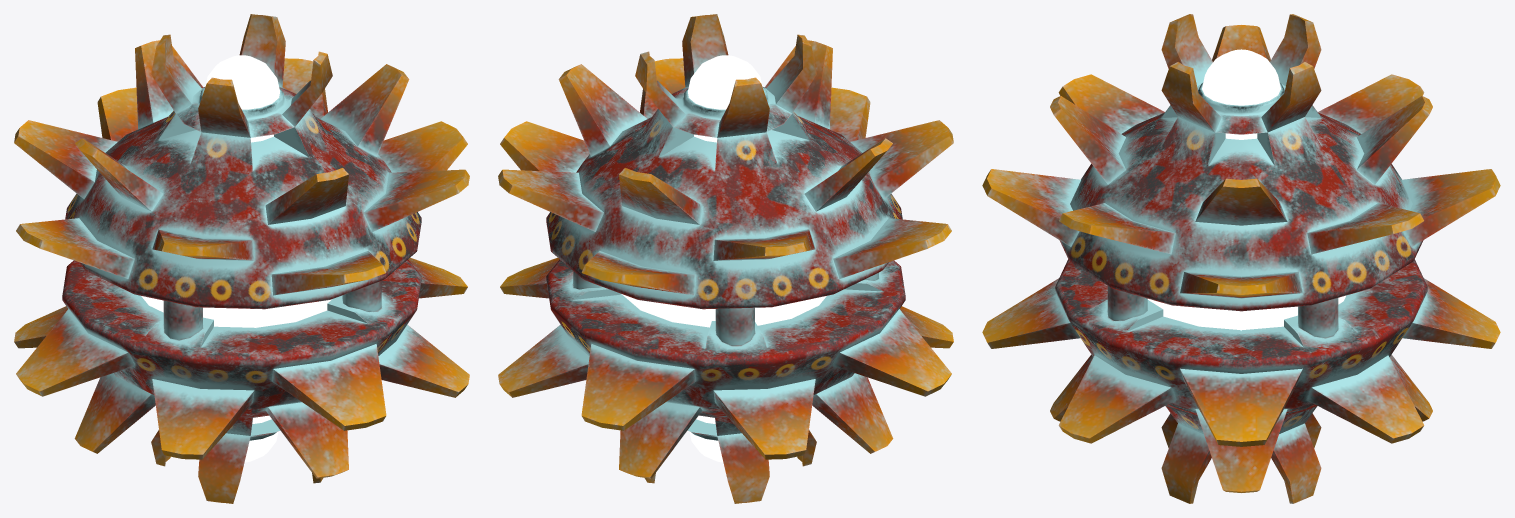
File: Mine2.fbx
The picture shows the model from 3 angles, left to right: view 1: azimuth 30°, elevation 25°; view 2: azimuth 150°, elevation 25°; view 3: azimuth 270°, elevation 25°; orthographic projection. The views are drawn at different scales.
Visible parts, largest first — view 1: Mine2; view 2: Mine2; view 3: Mine2.
Boxes of the visible parts, x1,y1,x2,y2 form: Mine2: [14, 14, 469, 503]; Mine2: [498, 14, 953, 503]; Mine2: [982, 14, 1500, 503].
Bounding box in the file's own units: 327 × 303 × 327.
